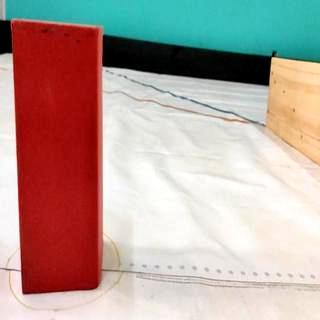redbox: (10, 21, 101, 294)
